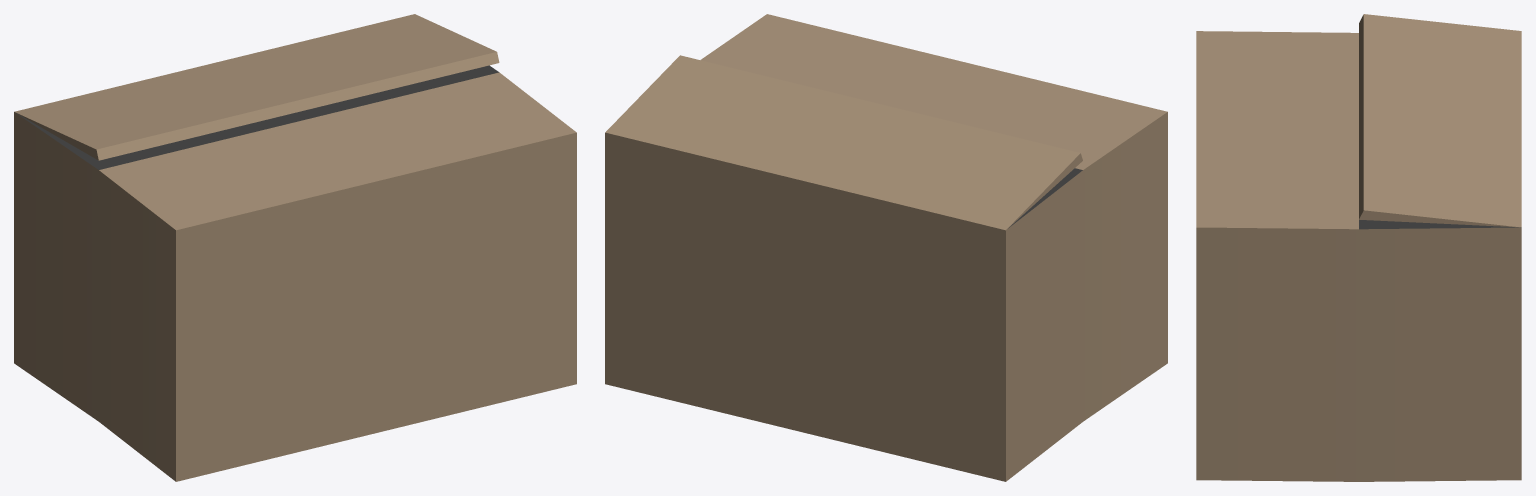
3 views of the same model, side by side, from view 1: azimuth 30°, elevation 25°; view 2: azimuth 150°, elevation 25°; view 3: azimuth 270°, elevation 25° (orthographic).
Parts seen in each view (by area): view 1: Box; view 2: Box; view 3: Box.
Part boxes in pixels (box(x1,y1,x2,y2)): Box: box(14, 14, 576, 481); Box: box(605, 14, 1167, 481); Box: box(1196, 14, 1521, 481).
Size of the model in its own units: 1.01 by 0.6449 by 0.7.
